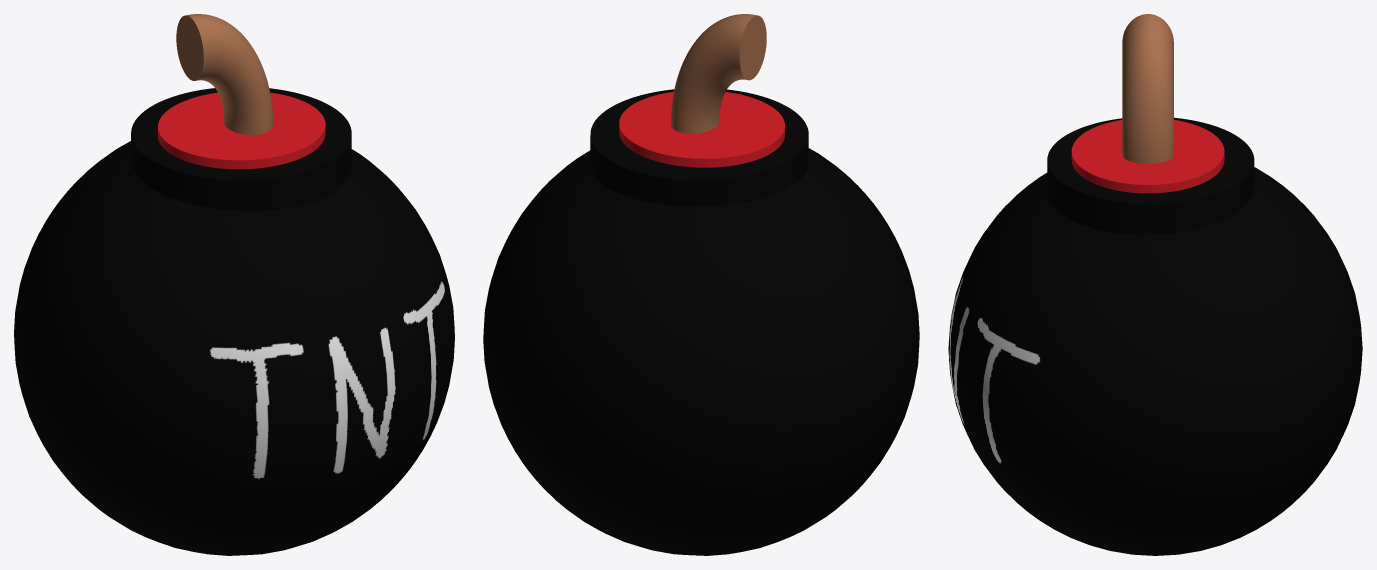
Rendered from big_bomb.fbx.
3 renders of one model, left to right at view 1: azimuth 30°, elevation 25°; view 2: azimuth 150°, elevation 25°; view 3: azimuth 270°, elevation 25°, orthographic. The views are drawn at different scales.
Visible parts, largest first — view 1: root (×4); view 2: root (×4); view 3: root (×4).
Boxes of the visible parts, x1,y1,x2,y2 form: root (×4): [14, 14, 454, 555]; root (×4): [483, 14, 919, 555]; root (×4): [948, 14, 1362, 555].
Size of the model in its own units: 0.2 by 0.2666 by 0.2.
Materials: 4 (4 with a texture image).
